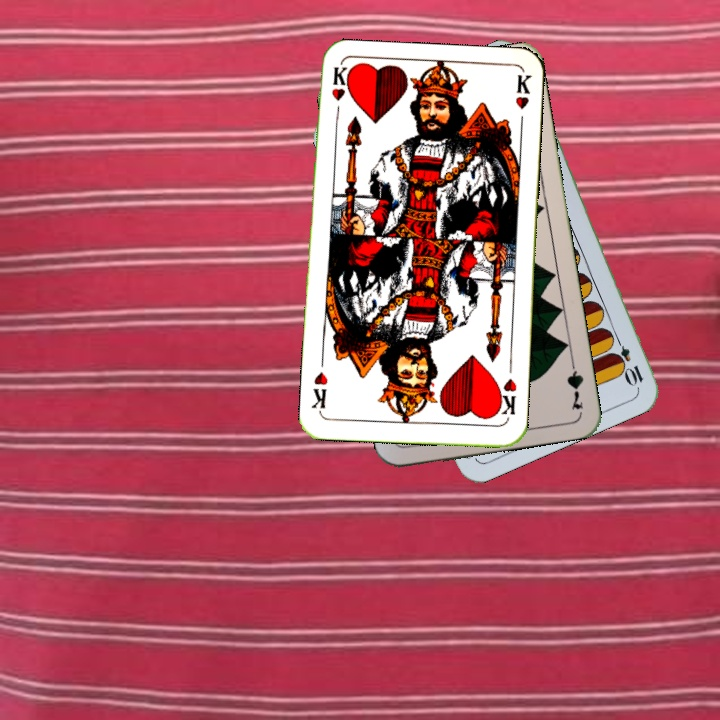E10: (609, 331, 646, 388)
G7: (562, 353, 586, 412)
HK: (492, 375, 520, 422), (327, 64, 349, 123)
